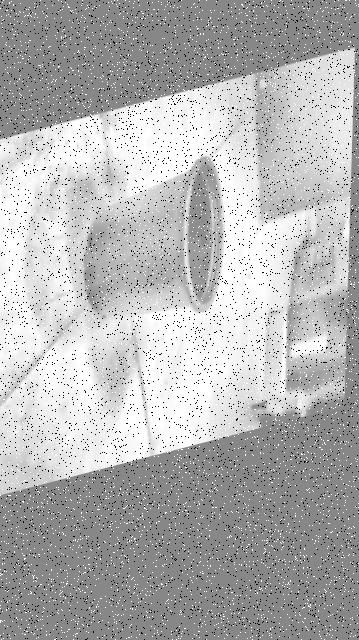pot: (82, 157, 223, 319)
